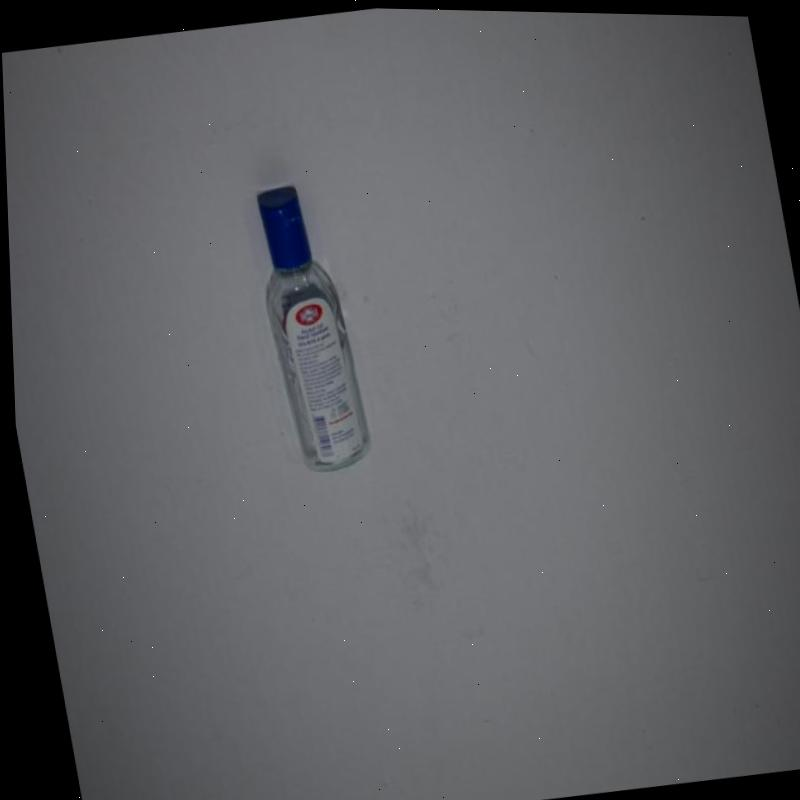botella: (240, 173, 374, 476)
